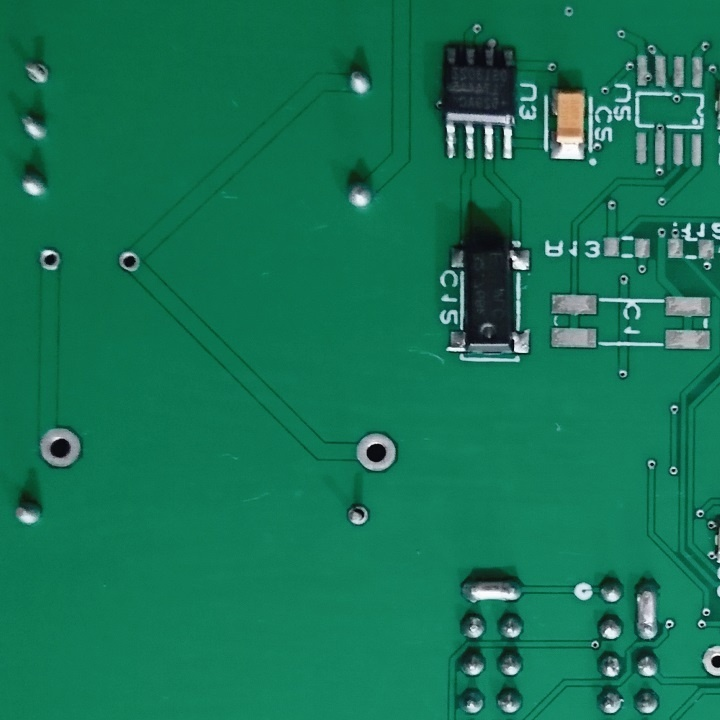F: (34, 424, 85, 471), (353, 429, 401, 477), (20, 56, 53, 89), (698, 640, 720, 685), (341, 499, 371, 530), (114, 247, 143, 276), (36, 246, 63, 274)
P: (630, 575, 666, 646), (456, 572, 528, 606)
